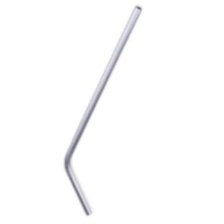drinking_straw: (59, 2, 148, 219)
